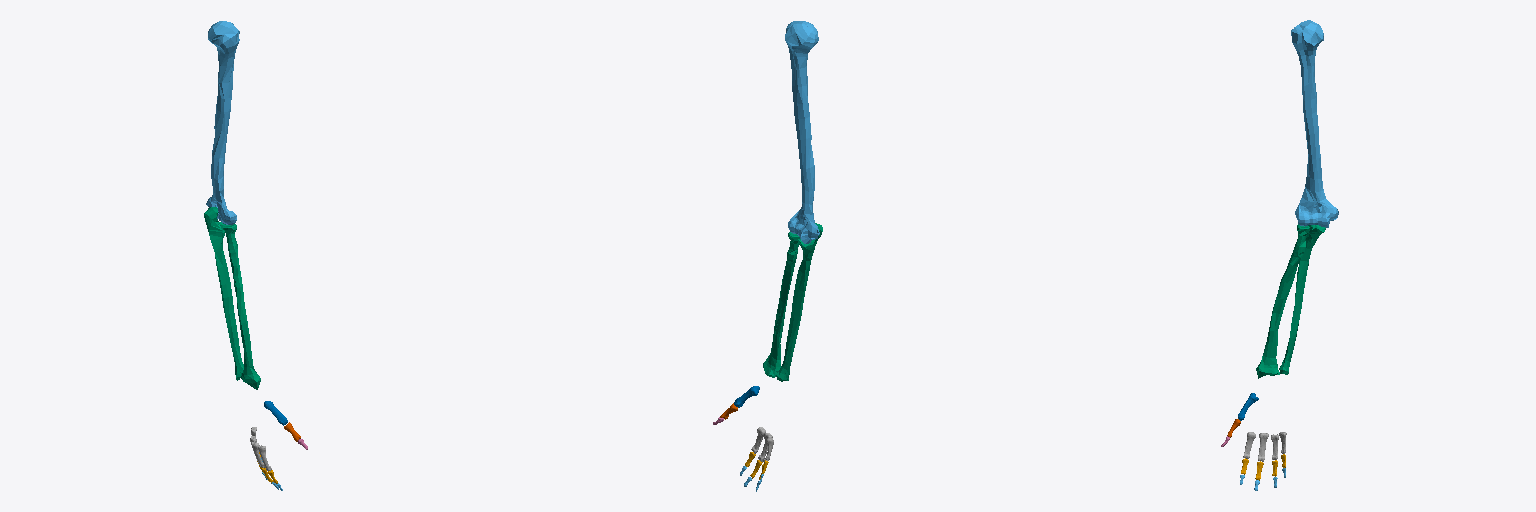
robot.urdf — skeleton:
<?xml version="1.0" ?>
<robot name="skeleton">
  <joint name="skeleton__shoulder_joint" type="fixed">
    <parent link="skeleton__skeleton"/>
    <child link="skeleton__upper_arm"/>
    <origin xyz="-0.01754 -0.17     1.793" rpy="1.59151 1.57079 0.02072"/>
    <axis xyz="0 0 1"/>
    <limit lower="-0.1" upper="0.7853981852531433" effort="0.0" velocity="0.0"/>
  </joint>
  <joint name="skeleton__elbow_joint" type="revolute">
    <parent link="skeleton__upper_arm"/>
    <child link="skeleton__forearm"/>
    <origin xyz="0.29099  0.0061  -0.0123" rpy="0 0 0"/>
    <axis xyz="0 0 1"/>
    <limit lower="0.0" upper="1.5707963705062866" effort="0.0" velocity="0.0"/>
  </joint>
  <joint name="skeleton__hand_joint_1" type="fixed">
    <parent link="skeleton__forearm"/>
    <child link="skeleton__hand"/>
    <origin xyz="0.23921 0.00788 0.06428" rpy="0 0 0"/>
    <axis xyz="0 0 1"/>
    <limit lower="0.0" upper="1.5707963705062866" effort="0.0" velocity="0.0"/>
  </joint>
  <joint name="skeleton__proximal_joint" type="fixed">
    <parent link="skeleton__hand"/>
    <child link="skeleton__proximal"/>
    <origin xyz="0.0941  0.002   0.00495" rpy="0.1847  -0.15172  0.24123"/>
    <axis xyz="0 0 1"/>
    <limit lower="0.0" upper="2.0" effort="0.0" velocity="0.0"/>
  </joint>
  <joint name="skeleton__thumb_joint_01" type="fixed">
    <parent link="skeleton__hand"/>
    <child link="skeleton__thumb_1"/>
    <origin xyz="0.02952 0.01191 0.02036" rpy="-2.39208 -0.67942  0.5854"/>
    <axis xyz="0 0 1"/>
    <limit lower="-0.7853981852531433" upper="0.7853981852531433" effort="0.0" velocity="0.0"/>
  </joint>
  <joint name="skeleton__thumb_joint_12" type="fixed">
    <parent link="skeleton__thumb_1"/>
    <child link="skeleton__thumb_2"/>
    <origin xyz="0.04365 0.00098 0.00148" rpy="0.61859 -0.06067  0.08498"/>
    <axis xyz="0 0 1"/>
    <limit lower="0.0" upper="1.5707963705062866" effort="0.0" velocity="0.0"/>
  </joint>
  <joint name="skeleton__thumb_joint_23" type="fixed">
    <parent link="skeleton__thumb_2"/>
    <child link="skeleton__thumb_3"/>
    <origin xyz="0.03175  0.0012  -0.00069" rpy="0 0 0"/>
    <axis xyz="0 0 1"/>
    <limit lower="0.0" upper="1.5707963705062866" effort="0.0" velocity="0.0"/>
  </joint>
  <joint name="skeleton__middle_joint" type="fixed">
    <parent link="skeleton__proximal"/>
    <child link="skeleton__middle"/>
    <origin xyz="0.04285 0      0" rpy="0 0 0"/>
    <axis xyz="0 0 1"/>
    <limit lower="0.0" upper="1.5707963705062866" effort="0.0" velocity="0.0"/>
  </joint>
  <joint name="skeleton__distal_joint" type="fixed">
    <parent link="skeleton__middle"/>
    <child link="skeleton__distal"/>
    <origin xyz="0.02734  0.00572 -0.00241" rpy="0 0 0"/>
    <axis xyz="0 0 1"/>
    <limit lower="0.0" upper="1.5707963705062866" effort="0.0" velocity="0.0"/>
  </joint>
  <link name="skeleton__skeleton">
    <inertial>
      <mass value="1.0"/>
      <origin xyz="0 0 0" rpy="0 0 0"/>
      <inertia ixx="0.001" ixy="0" ixz="0" iyy="0.001" iyz="0" izz="0.001"/>
    </inertial>
    <collision name="skeleton__collision">
      <origin xyz="-0.02371 -0.00647  1.74557" rpy="-0.0049  0      0"/>
      <geometry>
        <mesh filename="package://meshes/skeleton.dae" scale="1.0 1.0 1.0"/>
      </geometry>
    </collision>
    <visual name="skeleton__visual">
      <origin xyz="-0.02371 -0.00647  1.74557" rpy="-0.0049  0      0"/>
      <geometry>
        <mesh filename="package://meshes/skeleton.dae" scale="1.0 1.0 1.0"/>
      </geometry>
    </visual>
  </link>
  <link name="skeleton__upper_arm">
    <inertial>
      <mass value="2.4375"/>
      <origin xyz="0 0 0" rpy="0 0 0"/>
      <inertia ixx="0.00243" ixy="0" ixz="0" iyy="0.00243" iyz="0" izz="0.00243"/>
    </inertial>
    <collision name="skeleton__collision">
      <origin xyz="0.13823  0.00026 -0.00341" rpy="0      0      1.57079"/>
      <geometry>
        <mesh filename="package://demo_human_col/meshes/upper_arm.obj" scale="1.0 1.0 1.0"/>
      </geometry>
    </collision>
    <visual name="skeleton__visual">
      <origin xyz="0.13823  0.00026 -0.00341" rpy="0      0      1.57079"/>
      <geometry>
        <mesh filename="package://demo_human_col/meshes/upper_arm.obj" scale="1.0 1.0 1.0"/>
      </geometry>
    </visual>
  </link>
  <link name="skeleton__forearm">
    <inertial>
      <mass value="1.89"/>
      <origin xyz="0 0 0" rpy="0 0 0"/>
      <inertia ixx="0.00189" ixy="0" ixz="0" iyy="0.00189" iyz="0" izz="0.00189"/>
    </inertial>
    <collision name="skeleton__collision">
      <origin xyz="0.11655 -0.0037   0.03579" rpy="0      0      1.57079"/>
      <geometry>
        <mesh filename="package://demo_human_col/meshes/forearm.obj" scale="1.0 1.0 1.0"/>
      </geometry>
    </collision>
    <visual name="skeleton__visual">
      <origin xyz="0.11655 -0.0037   0.03579" rpy="0      0      1.57079"/>
      <geometry>
        <mesh filename="package://demo_human_col/meshes/forearm.obj" scale="1.0 1.0 1.0"/>
      </geometry>
    </visual>
  </link>
  <link name="skeleton__hand">
    <inertial>
      <mass value="0.001"/>
      <origin xyz="0 0 0" rpy="0 0 0"/>
      <inertia ixx="0.000001" ixy="0" ixz="0" iyy="0.000001" iyz="0" izz="0.000001"/>
    </inertial>
    <collision name="skeleton__collision">
      <origin xyz="0.04303 0.00372 0.00215" rpy="0      0      1.57079"/>
      <geometry>
        <mesh filename="package://meshes/hand_col.dae" scale="1.0 1.0 1.0"/>
      </geometry>
    </collision>
    <visual name="skeleton__visual">
      <origin xyz="0.04303 0.00372 0.00215" rpy="0      0      1.57079"/>
      <geometry>
        <mesh filename="package://demo_human_col/meshes/hand.obj" scale="1.0 1.0 1.0"/>
      </geometry>
    </visual>
  </link>
  <link name="skeleton__thumb_1">
    <inertial>
      <mass value="0.001"/>
      <origin xyz="0 0 0" rpy="0 0 0"/>
      <inertia ixx="0.000001" ixy="0" ixz="0" iyy="0.000001" iyz="0" izz="0.000001"/>
    </inertial>
    <visual name="skeleton__visual">
      <origin xyz="0.0254  -0.00053 -0.00079" rpy="-3.1294  -0.96488 -0.71552"/>
      <geometry>
        <mesh filename="package://demo_human_col/meshes/thumb_1.obj" scale="1.0 1.0 1.0"/>
      </geometry>
    </visual>
  </link>
  <link name="skeleton__thumb_2">
    <inertial>
      <mass value="0.001"/>
      <origin xyz="0 0 0" rpy="0 0 0"/>
      <inertia ixx="0.000001" ixy="0" ixz="0" iyy="0.000001" iyz="0" izz="0.000001"/>
    </inertial>
    <visual name="skeleton__visual">
      <origin xyz="0.01794  0.00023 -0.00055" rpy="1.91061 -1.08836  0.28141"/>
      <geometry>
        <mesh filename="package://demo_human_col/meshes/thumb_2.obj" scale="1.0 1.0 1.0"/>
      </geometry>
    </visual>
  </link>
  <link name="skeleton__thumb_3">
    <inertial>
      <mass value="0.001"/>
      <origin xyz="0 0 0" rpy="0 0 0"/>
      <inertia ixx="0.000001" ixy="0" ixz="0" iyy="0.000001" iyz="0" izz="0.000001"/>
    </inertial>
    <visual name="skeleton__visual">
      <origin xyz="0.00932 -0.00015  0.00029" rpy="1.91527 -1.09474  0.23923"/>
      <geometry>
        <mesh filename="package://demo_human_col/meshes/thumb_3.obj" scale="1.0 1.0 1.0"/>
      </geometry>
    </visual>
  </link>
  <link name="skeleton__proximal">
    <inertial>
      <mass value="0.001"/>
      <origin xyz="0 0 0" rpy="0 0 0"/>
      <inertia ixx="0.000001" ixy="0" ixz="0" iyy="0.000001" iyz="0" izz="0.000001"/>
    </inertial>
    <collision name="skeleton__collision">
      <origin xyz="0.01919 0.0022  0.00295" rpy="0.09206 0.2203  1.27627"/>
      <geometry>
        <mesh filename="package://meshes/proximal_col.dae" scale="1.0 1.0 1.0"/>
      </geometry>
    </collision>
    <visual name="skeleton__visual">
      <origin xyz="0.01919 0.0022  0.00295" rpy="0.09206 0.2203  1.27627"/>
      <geometry>
        <mesh filename="package://demo_human_col/meshes/proximal.obj" scale="1.0 1.0 1.0"/>
      </geometry>
    </visual>
  </link>
  <link name="skeleton__middle">
    <inertial>
      <mass value="0.001"/>
      <origin xyz="0 0 0" rpy="0 0 0"/>
      <inertia ixx="0.000001" ixy="0" ixz="0" iyy="0.000001" iyz="0" izz="0.000001"/>
    </inertial>
    <collision name="skeleton__collision">
      <origin xyz="0.00925  0.00417 -0.0002" rpy="0.13008 0.20044 1.45783"/>
      <geometry>
        <mesh filename="package://meshes/middle_col.dae" scale="1.0 1.0 1.0"/>
      </geometry>
    </collision>
    <visual name="skeleton__visual">
      <origin xyz="0.00925  0.00417 -0.0002" rpy="0.13008 0.20044 1.45783"/>
      <geometry>
        <mesh filename="package://demo_human_col/meshes/middle.obj" scale="1.0 1.0 1.0"/>
      </geometry>
    </visual>
  </link>
  <link name="skeleton__distal">
    <inertial>
      <mass value="0.001"/>
      <origin xyz="0 0 0" rpy="0 0 0"/>
      <inertia ixx="0.000001" ixy="0" ixz="0" iyy="0.000001" iyz="0" izz="0.000001"/>
    </inertial>
    <collision name="skeleton__collision">
      <origin xyz="0.00163 0.00281 0.00012" rpy="0.1341  0.1978  1.47817"/>
      <geometry>
        <mesh filename="package://demo_human_col/meshes/distal.obj" scale="1.0 1.0 1.0"/>
      </geometry>
    </collision>
    <visual name="skeleton__visual">
      <origin xyz="0.00163 0.00281 0.00012" rpy="0.1341  0.1978  1.47817"/>
      <geometry>
        <mesh filename="package://demo_human_col/meshes/distal.obj" scale="1.0 1.0 1.0"/>
      </geometry>
    </visual>
  </link>
</robot>

--- What the picture shows (computed from the rendered views, not written in the file) ---
Views: 3 orthographic renders of the robot side by side, from view 1: azimuth 30°, elevation 25°; view 2: azimuth 210°, elevation 25°; view 3: azimuth 270°, elevation 25°.
Model skeleton with 10 links and 9 joints (1 revolute, 8 fixed), rooted at skeleton__skeleton, posed all joints at 0.
Visible links, largest first — view 1: skeleton__forearm, skeleton__upper_arm; view 2: skeleton__upper_arm, skeleton__forearm; view 3: skeleton__upper_arm, skeleton__forearm, skeleton__proximal.
Link boxes in pixels (bbox=[...]): skeleton__forearm: bbox=[204, 207, 260, 389]; skeleton__upper_arm: bbox=[206, 21, 239, 224]; skeleton__upper_arm: bbox=[785, 21, 819, 243]; skeleton__forearm: bbox=[763, 223, 822, 381]; skeleton__upper_arm: bbox=[1291, 20, 1338, 227]; skeleton__forearm: bbox=[1256, 224, 1325, 378]; skeleton__proximal: bbox=[1243, 432, 1286, 461].
Bounding box of the posed robot: 0.0926 × 0.172 × 0.7302 m (x, y, z).
8 mesh visuals loaded from 10 distinct referenced files (8 OBJ); not drawn: 2 (reference not matched to a file when rendering).
